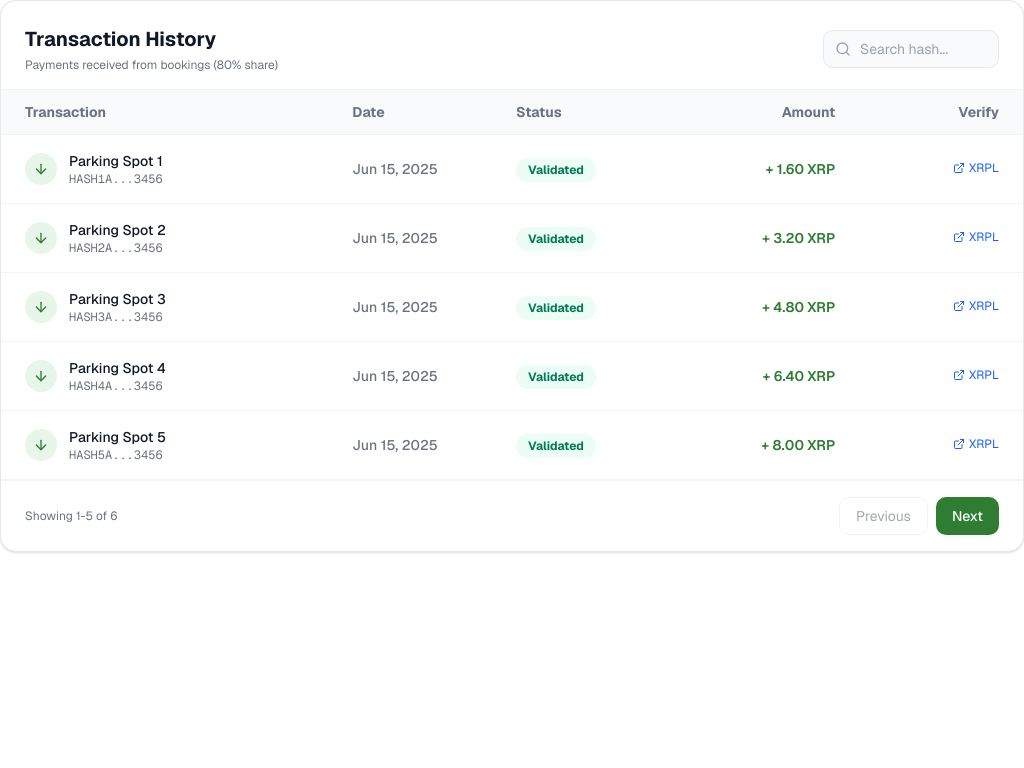
Scenario: TransactionHistoryCard Component › Pagination › Previous button goes back to page 1
Expected: the text "Parking Spot 1" is shown, [69,151,163,171]
Note: Go to page 2
What coordinates should you click on to do the following:
click the button "Next"
I would click on:
 (967, 516)
Its box is [936,497,999,535].
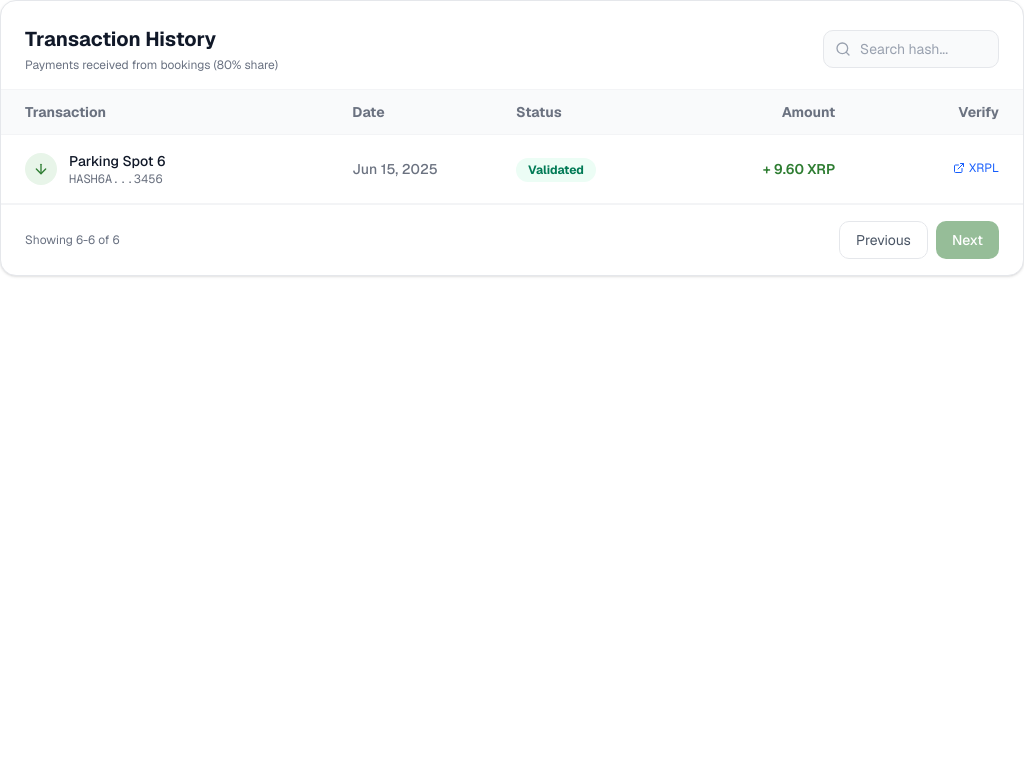
Now the text "Parking Spot 6" is shown, box [69,151,165,171]
Note: Go back to page 1
What coordinates should you click on to do the following:
click the button "Previous"
I would click on:
 (883, 240)
Its box is [839,221,928,259].
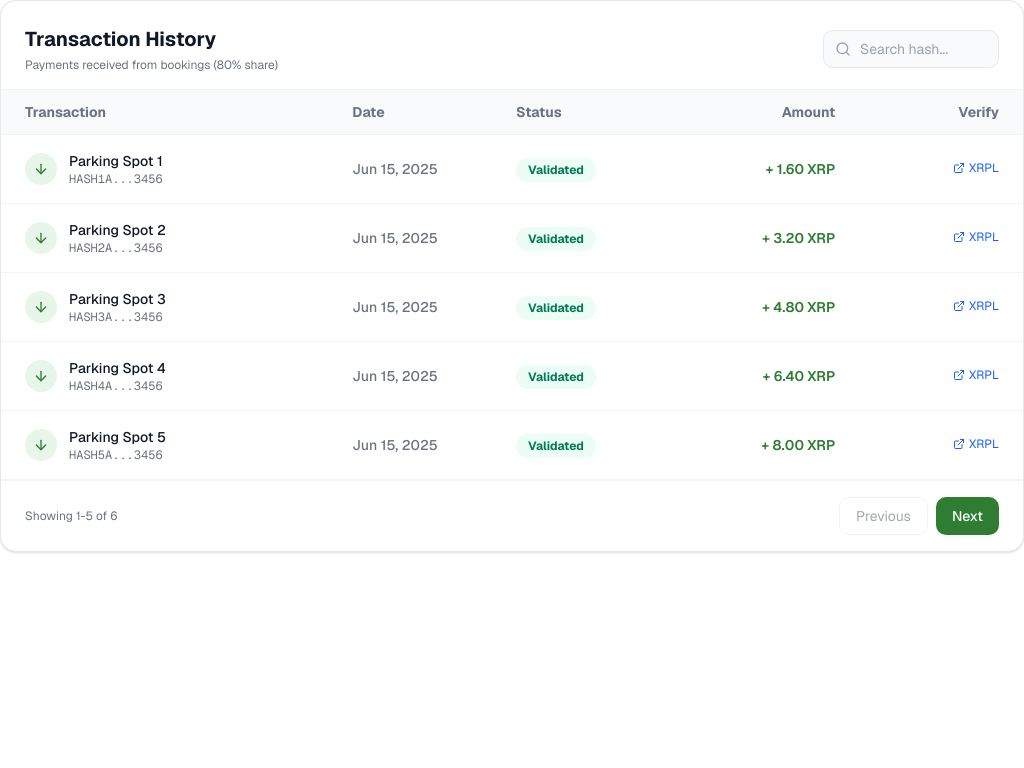
Now the text "Parking Spot 1" is shown, box [69,151,163,171]
